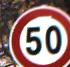Speed Limit -50-: (0, 0, 69, 66)
